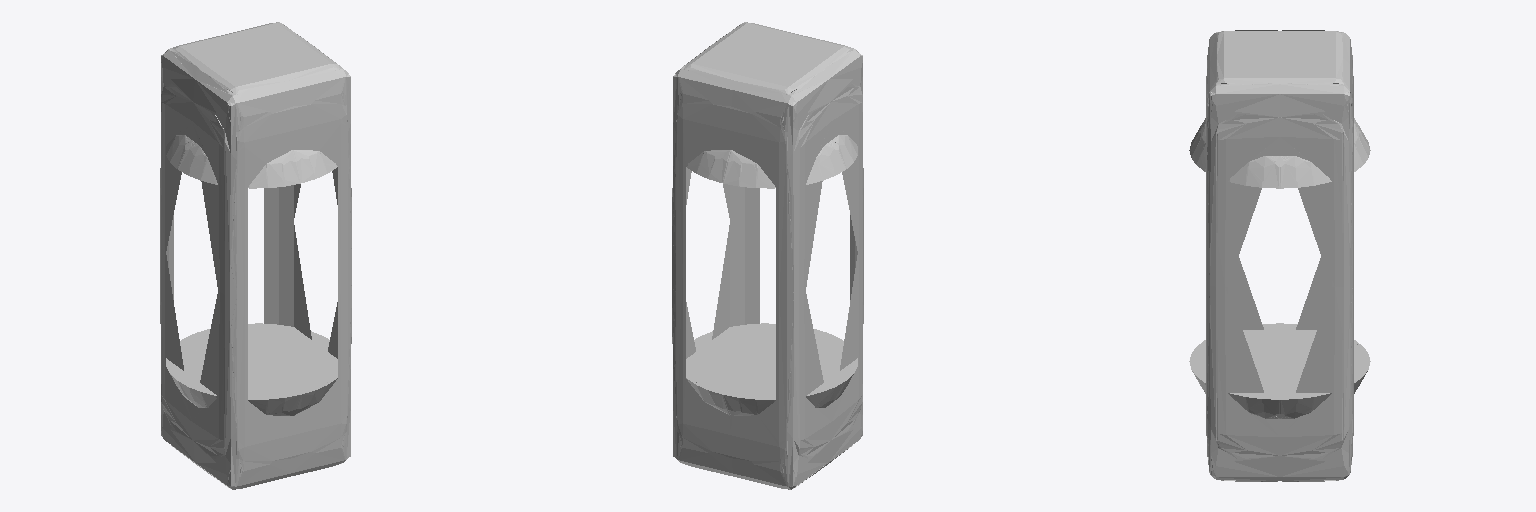
File: small-heal-pack.obj
The picture shows the model from 3 angles: view 1: azimuth 30°, elevation 25°; view 2: azimuth 150°, elevation 25°; view 3: azimuth 270°, elevation 25°; orthographic projection.
Parts seen in each view (by area): view 1: основа_малой_аптечки_Куб.004; view 2: основа_малой_аптечки_Куб.004; view 3: основа_малой_аптечки_Куб.004.
Boxes of the visible parts, x1,y1,x2,y2 form: основа_малой_аптечки_Куб.004: [160, 22, 351, 489]; основа_малой_аптечки_Куб.004: [672, 22, 863, 489]; основа_малой_аптечки_Куб.004: [1189, 30, 1370, 481].
Bounding box in the file's own units: 0.259 × 0.6347 × 0.259.